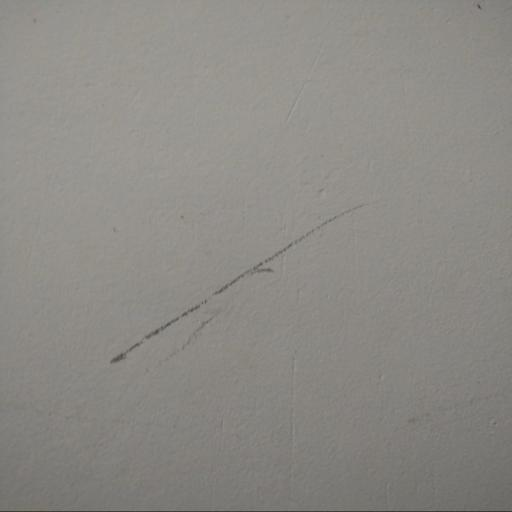stain: (97, 177, 415, 455)
